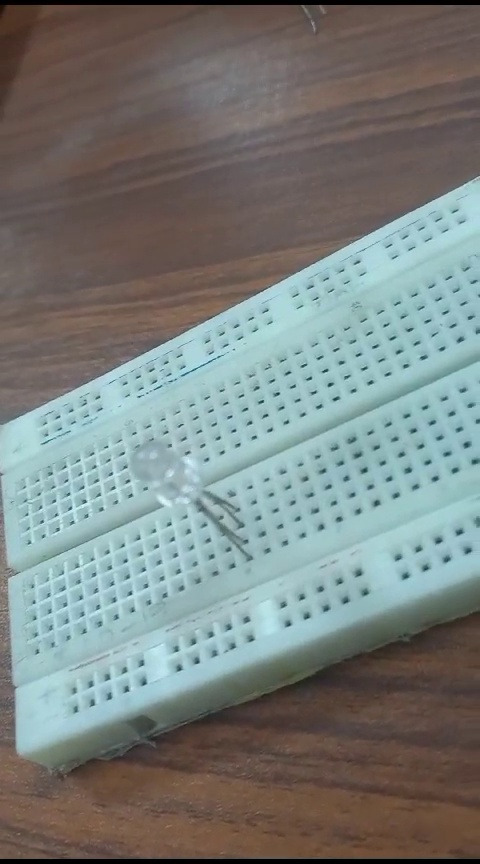LED: (100, 441, 254, 551)
